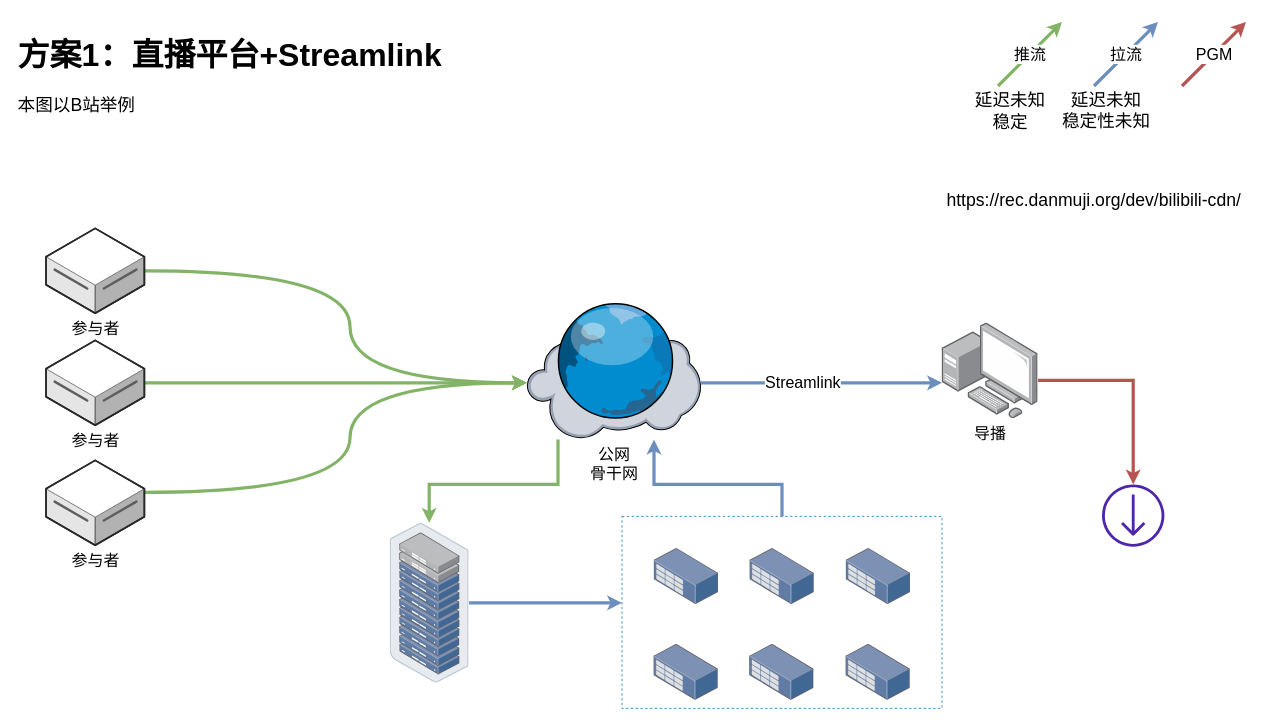
Image size: 1275x722. Some labels were removed from this diagram. Each missing label, with the box of its shape:
B站推流服务器: (390, 522, 469, 683)
B站直播：流媒体边缘节点: (621, 516, 942, 708)
流媒体平台: (1102, 484, 1164, 546)
